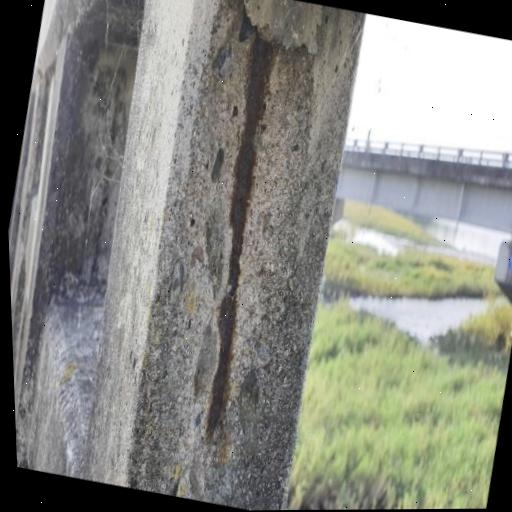exposed_rebar: (206, 35, 274, 438)
